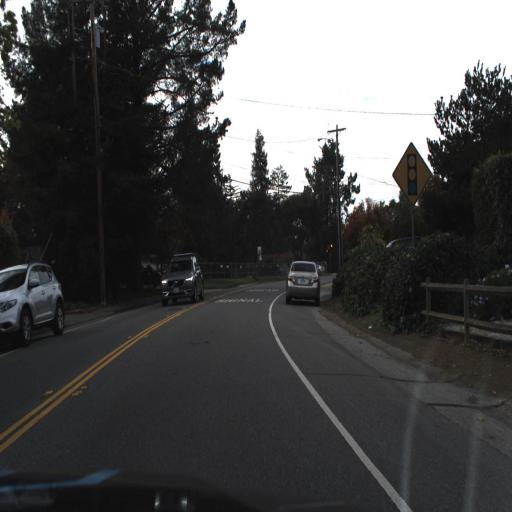car: (0, 259, 67, 350), (157, 251, 205, 309), (283, 259, 319, 300)
